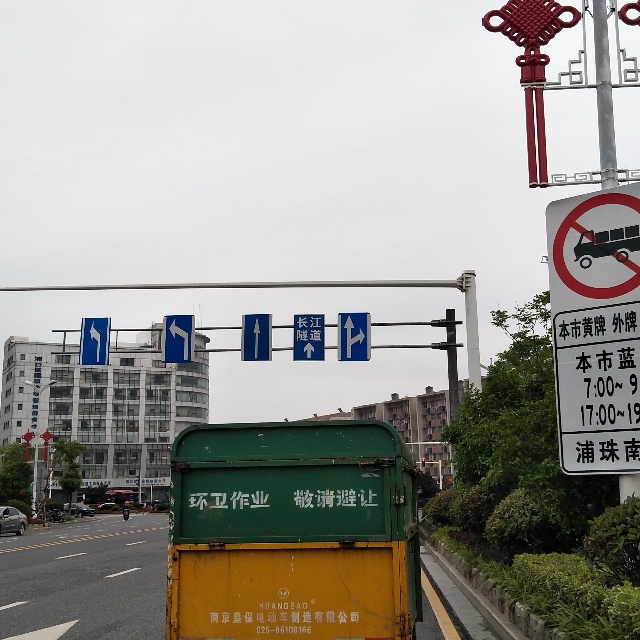left: (81, 313, 111, 368), (164, 314, 195, 363)
straight: (243, 313, 272, 360), (299, 338, 318, 361)
